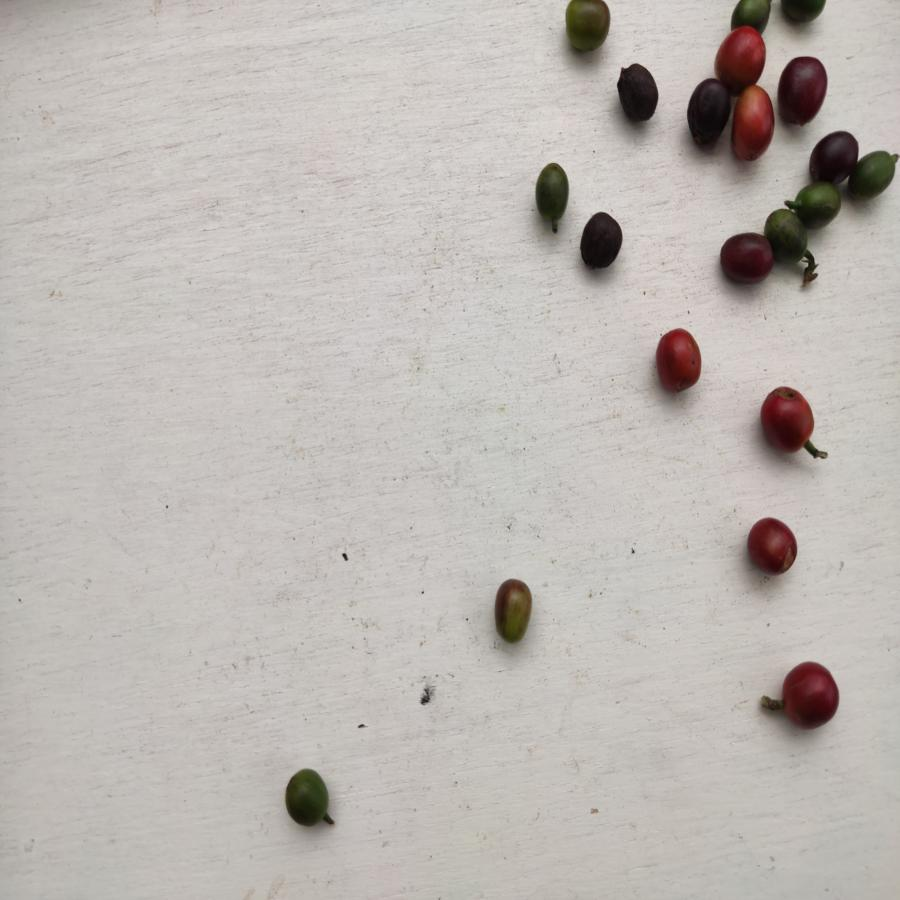Inmaduro: (285, 767, 331, 829), (532, 160, 573, 224), (855, 148, 898, 204), (789, 184, 843, 224), (766, 204, 805, 259), (725, 1, 773, 26), (780, 1, 830, 22)
Maduro: (778, 655, 841, 729), (758, 383, 817, 456), (655, 326, 703, 400), (745, 513, 801, 575), (732, 84, 775, 163), (715, 24, 764, 85)
Pinton: (491, 574, 532, 645), (562, 1, 612, 57)
Sobremaduro: (778, 55, 829, 125), (719, 230, 773, 288), (688, 78, 729, 151), (616, 62, 662, 124), (579, 211, 624, 272), (810, 128, 858, 184)
